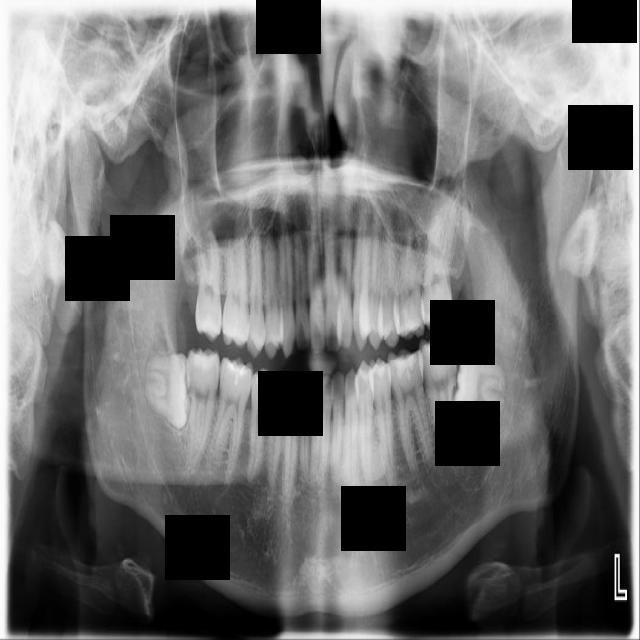73: (532, 550, 535, 558)
BioHorizons Implant: (420, 202, 456, 331)
Biomet 3i Implant: (450, 348, 512, 428)
Blue Sky Bio Implant: (418, 334, 464, 456)
Caries: (194, 233, 222, 341)
Implant: (186, 347, 220, 473)
Keystone Dental Implant: (143, 353, 191, 429)
